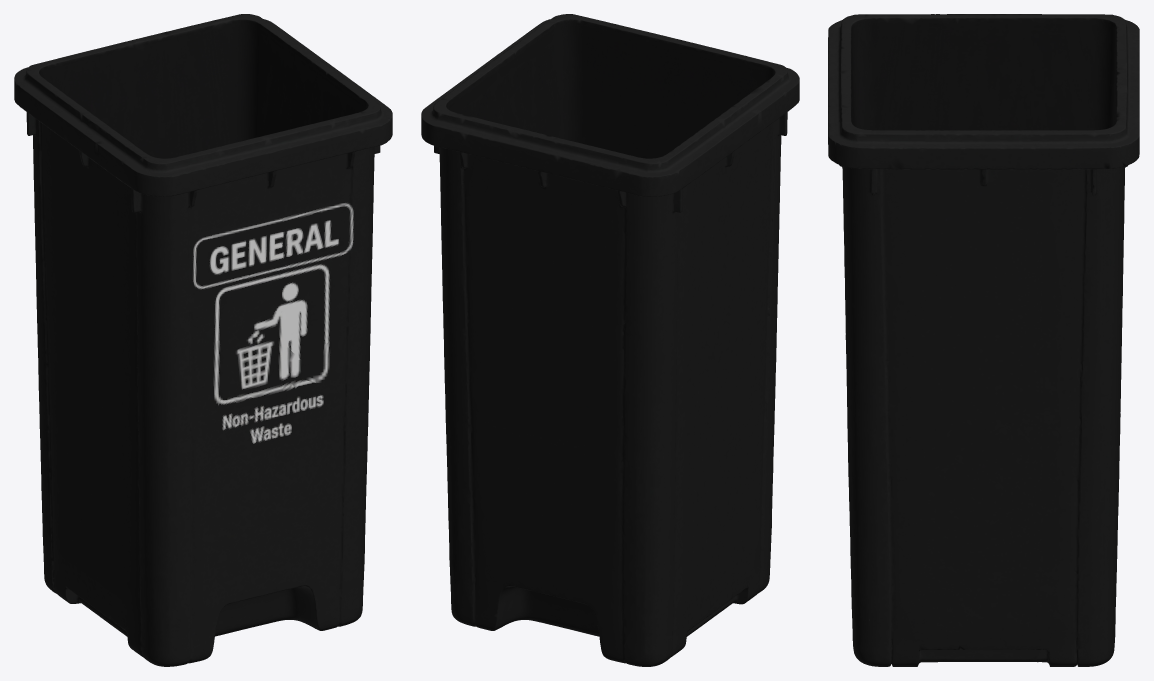
The model's file is blackbin.glb.
3 views of the same model, side by side, from view 1: azimuth 30°, elevation 25°; view 2: azimuth 150°, elevation 25°; view 3: azimuth 270°, elevation 25° (orthographic). The views are drawn at different scales.
Visible parts, largest first — view 1: mesh_node; view 2: mesh_node; view 3: mesh_node.
Part boxes in pixels (left/top/right/bottom): mesh_node: left=14, top=14, right=392, bottom=666; mesh_node: left=421, top=14, right=799, bottom=666; mesh_node: left=828, top=14, right=1139, bottom=666.
Bounding box in the file's own units: 0.9889 × 1.9 × 0.9893.
1 material, 1 textured.
